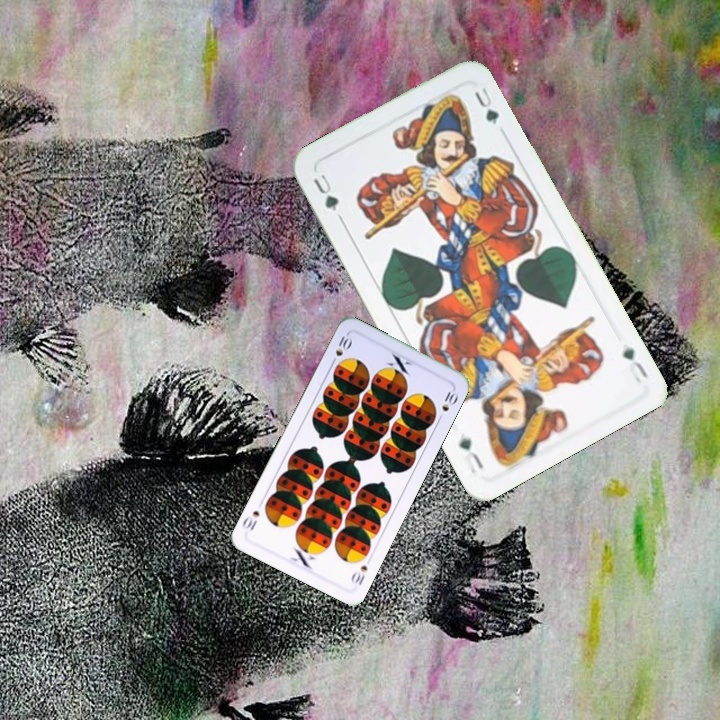GU: (309, 169, 342, 214), (618, 342, 651, 386)
S10: (327, 330, 355, 368), (347, 561, 370, 588)
